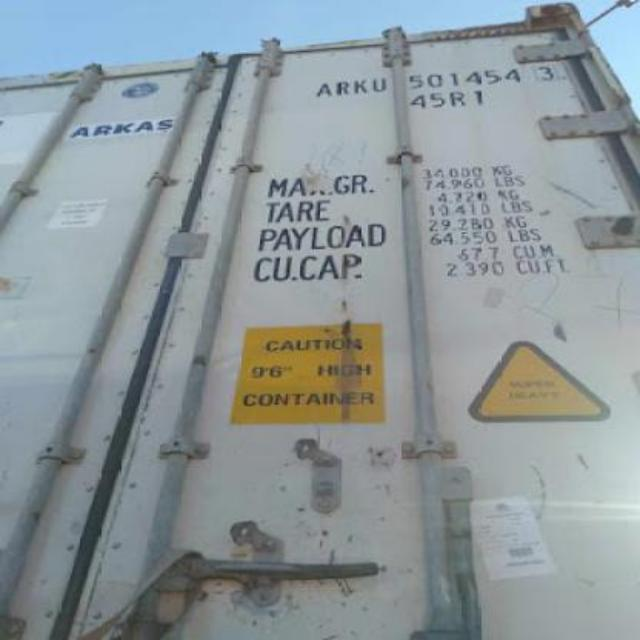0: (426, 72, 444, 88)
1: (448, 70, 460, 86)
3: (540, 66, 552, 82)
4: (504, 64, 522, 84), (466, 70, 482, 86)
5: (482, 69, 502, 87), (408, 75, 424, 91)
A: (316, 84, 334, 96)
K: (350, 78, 370, 96)
R: (336, 80, 348, 94)
U: (372, 77, 388, 93)
